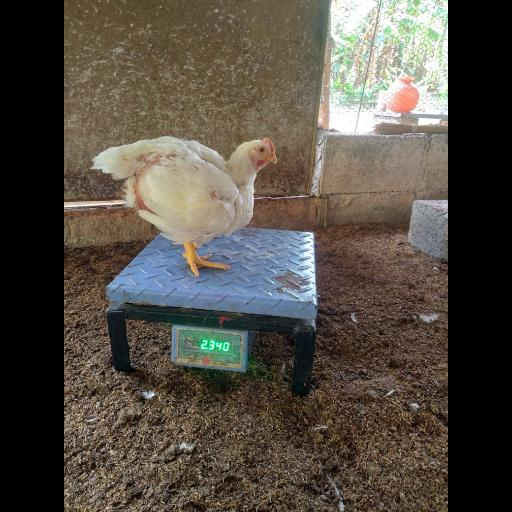chick: (93, 138, 278, 273)
